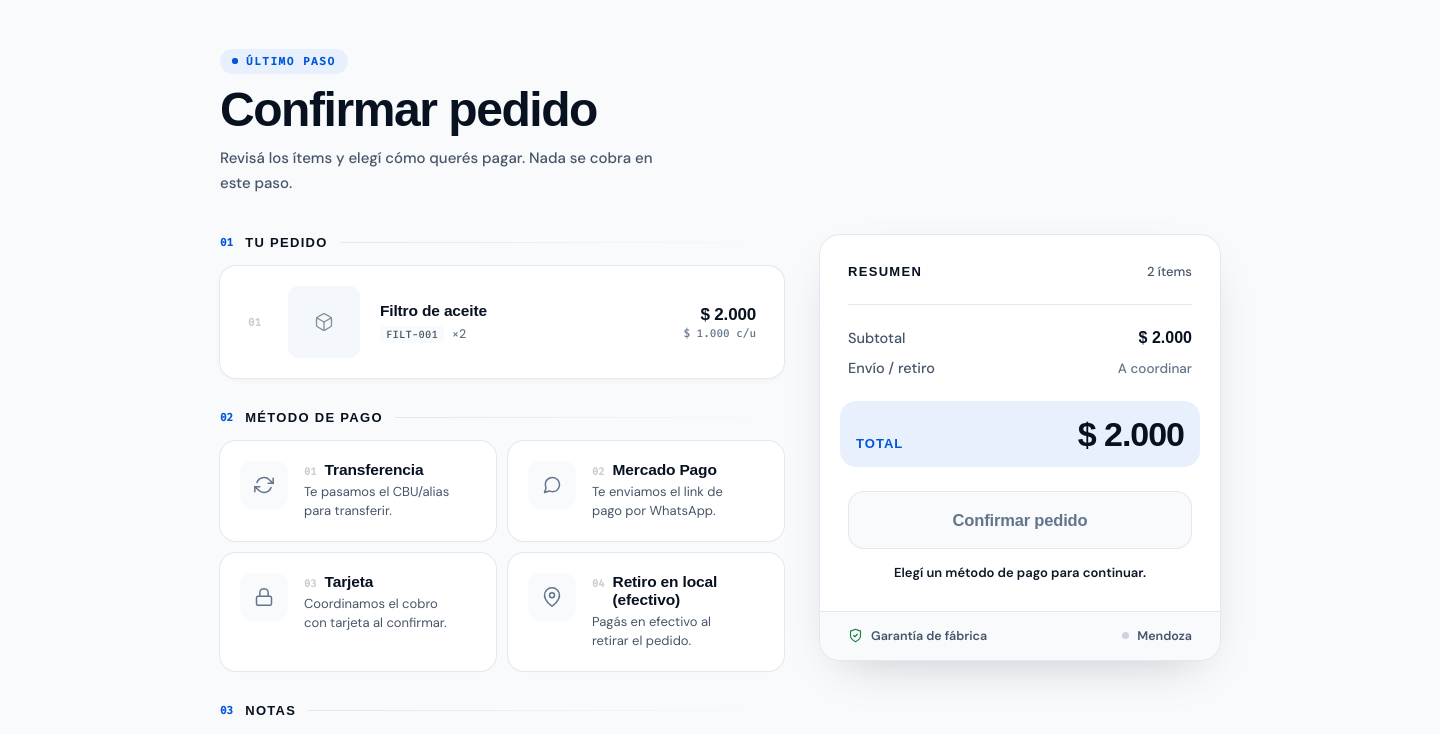
Test: CheckoutPage — confirmación › crea el pedido, vacía el carrito y muestra la pantalla de éxito
The width and height of the screenshot is (1440, 734).
Click the button "01 Transferencia Te pasamos el CBU/alias para transferir." at (358, 491), box top-left (220, 441), bottom-right (496, 541)
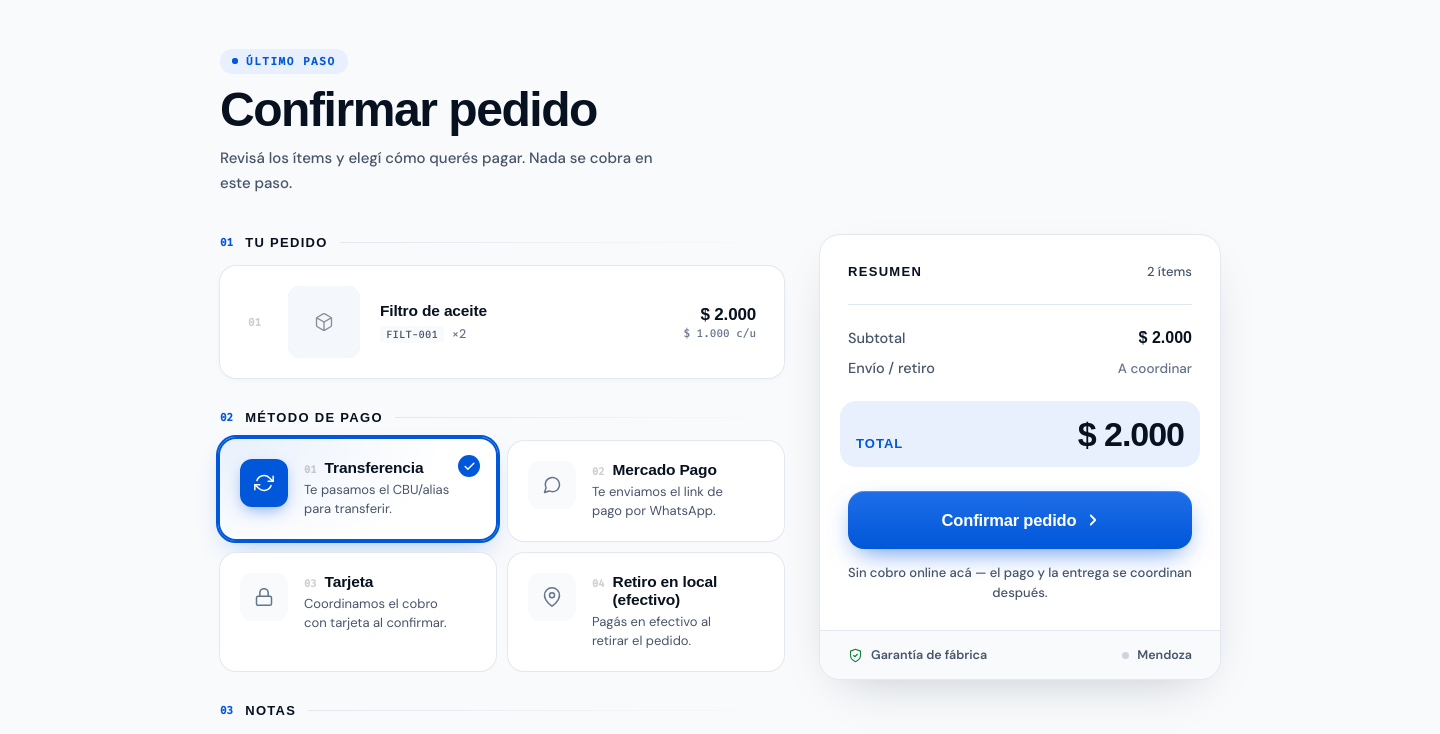
Click the button "Confirmar pedido" at (1020, 520), box top-left (848, 491), bottom-right (1192, 549)
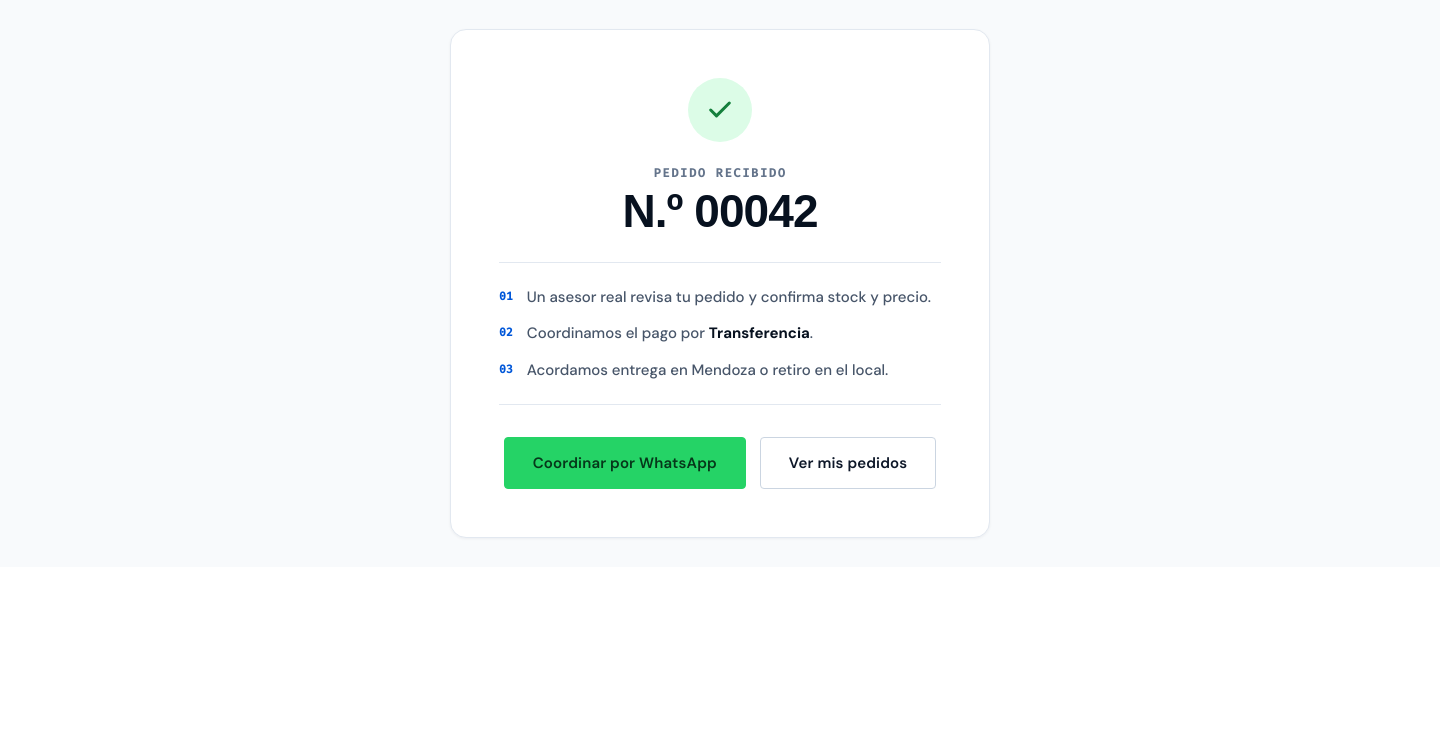
Check: the heading "N.º 00042" is shown, box top-left (622, 185), bottom-right (818, 237)
